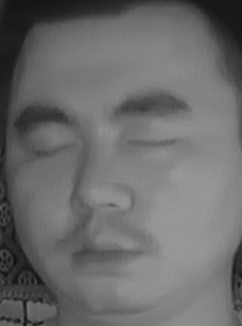blink: (124, 118, 180, 162), (31, 130, 79, 163)
mouth: (60, 224, 147, 280)
